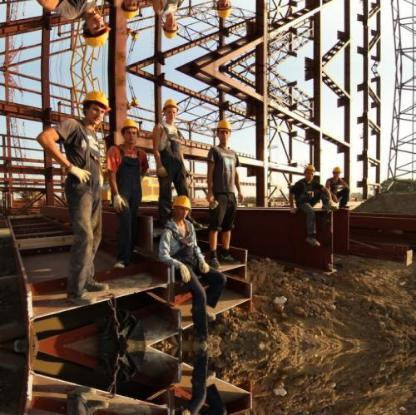helmet: (77, 86, 118, 116), (168, 187, 196, 213), (122, 114, 141, 138), (161, 94, 181, 115), (214, 115, 233, 135), (303, 161, 318, 176), (330, 164, 344, 176)
